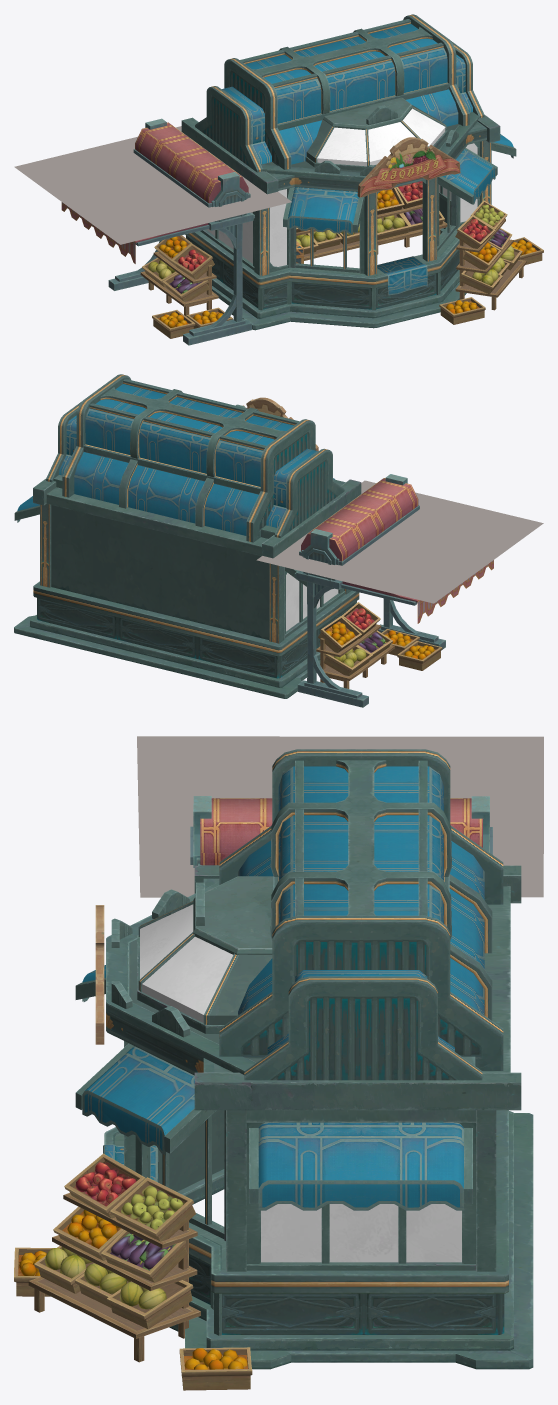
File: Homeworld_Exterior_Fd_Build_FruitStore_01_Lod0.fbx
3 renders of one model, top to bottom at view 1: azimuth 30°, elevation 25°; view 2: azimuth 150°, elevation 25°; view 3: azimuth 270°, elevation 25°, orthographic. The views are drawn at different scales.
Parts seen in each view (by area): view 1: Homeworld_Exterior_Fd_Build_FruitStore_01_Lod0, Area_Fd_Prop_FDC_Tanwei_01_Ocl; view 2: Homeworld_Exterior_Fd_Build_FruitStore_01_Lod0, Area_Fd_Prop_FDC_Tanwei_01_Ocl; view 3: Homeworld_Exterior_Fd_Build_FruitStore_01_Lod0, Area_Fd_Prop_FDC_Tanwei_01_Ocl.
Part boxes in pixels (x1,y1,x2,y2): Homeworld_Exterior_Fd_Build_FruitStore_01_Lod0: (61, 14, 543, 345); Area_Fd_Prop_FDC_Tanwei_01_Ocl: (14, 126, 291, 244); Homeworld_Exterior_Fd_Build_FruitStore_01_Lod0: (14, 374, 493, 707); Area_Fd_Prop_FDC_Tanwei_01_Ocl: (256, 480, 543, 603); Homeworld_Exterior_Fd_Build_FruitStore_01_Lod0: (14, 749, 533, 1390); Area_Fd_Prop_FDC_Tanwei_01_Ocl: (137, 736, 543, 897).
Size of what is drawn, in the model's own units: 10.66 by 5.03 by 5.89.
